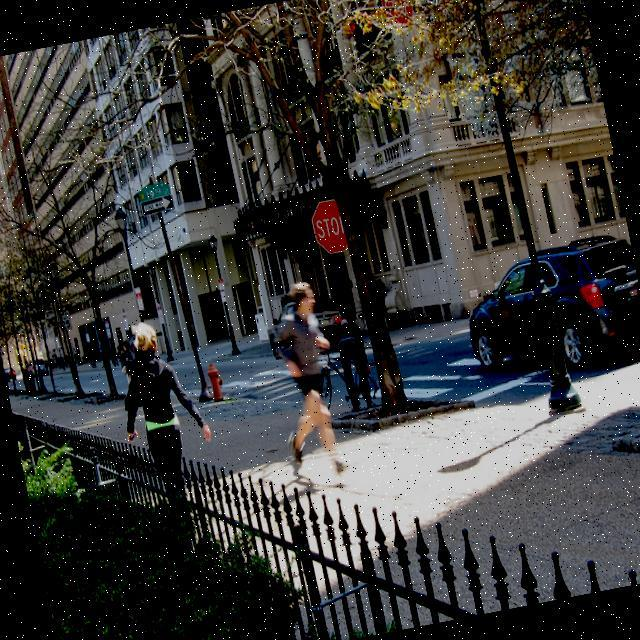fire_hydrant: (206, 362, 227, 402)
